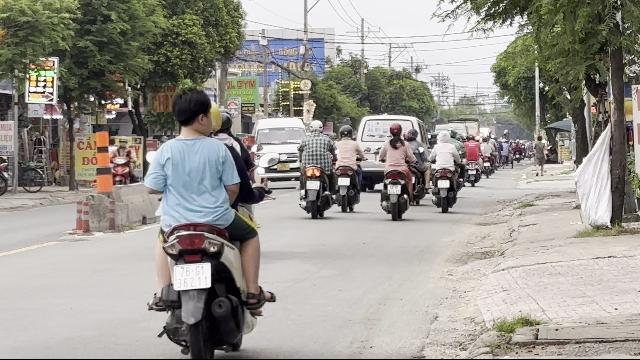licenseplate: (173, 264, 211, 290)
motorcyclist: (138, 86, 276, 358)
nohelmet: (170, 88, 214, 136)
